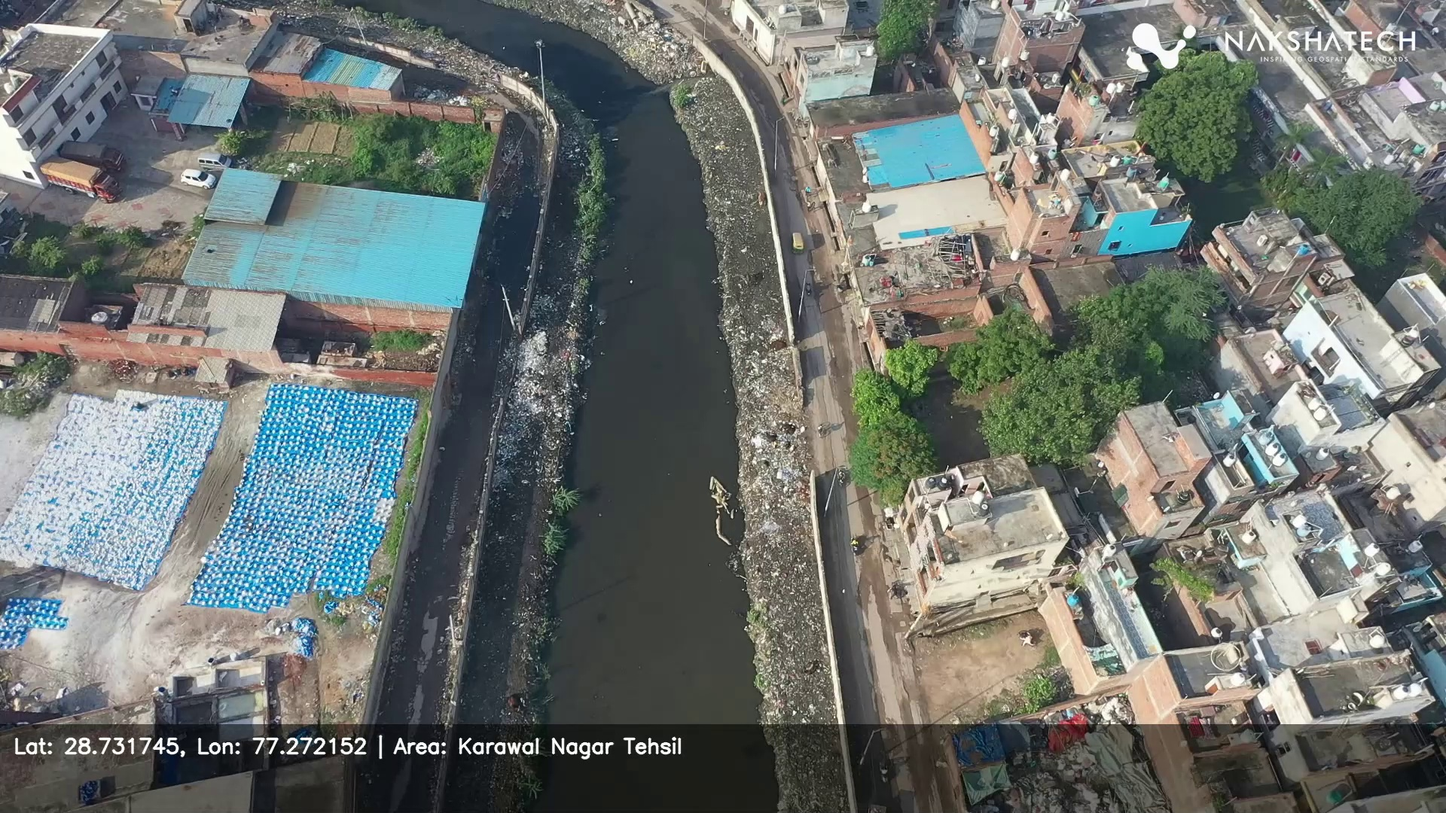Lixo: (634, 57, 710, 109)
